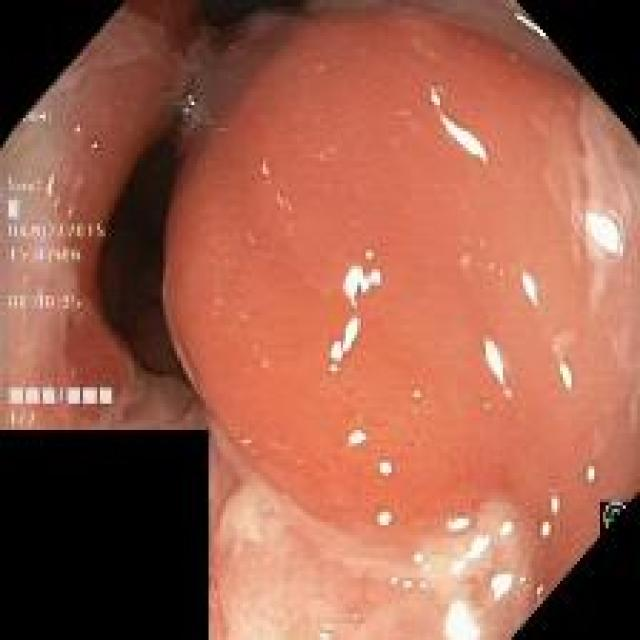Polyps: (164, 4, 640, 638)
